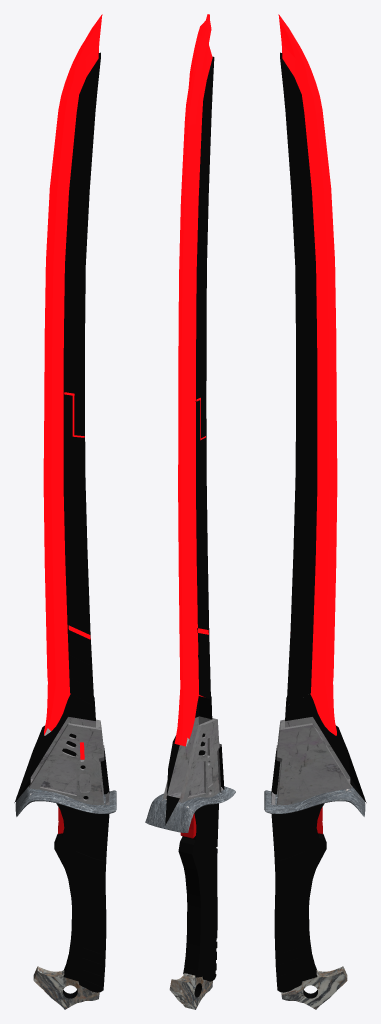
File: weapon_sword.glb
The picture shows the model from 3 angles, left to right: view 1: azimuth 90°, elevation 25°; view 2: azimuth 150°, elevation 25°; view 3: azimuth 270°, elevation 25°; orthographic projection.
Visible parts, largest first — view 1: red katana; view 2: red katana; view 3: red katana.
Part boxes in pixels (x1,y1,x2,y2): red katana: [14, 14, 116, 1009]; red katana: [145, 14, 235, 1009]; red katana: [264, 14, 366, 1009].
Size of the model in its own units: 0.0484 by 1.05 by 0.0981.
Materials: 8 (3 with a texture image).
